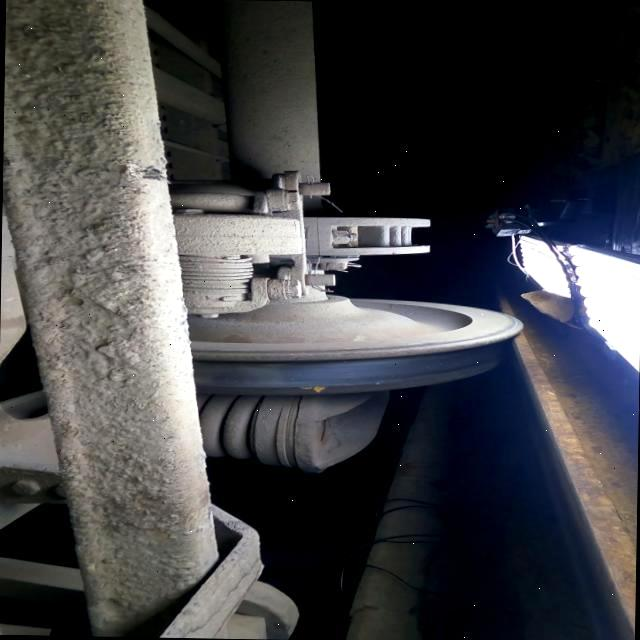Cracks-Scratches: (299, 385, 327, 391)
Shelling: (196, 359, 282, 386)
Wheel: (189, 295, 524, 394)
